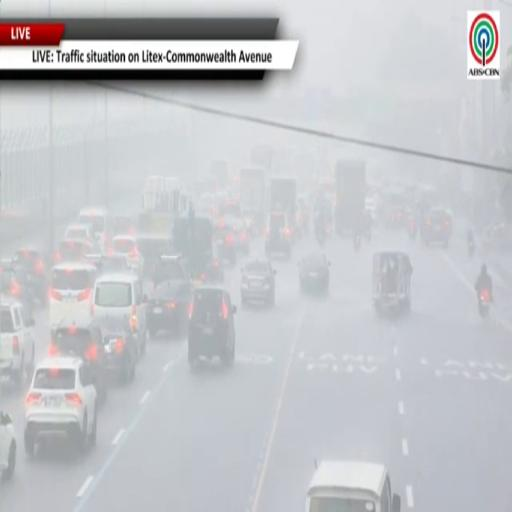car: (24, 358, 97, 457), (49, 316, 107, 403), (306, 461, 400, 511), (92, 274, 147, 354), (188, 287, 236, 366), (49, 263, 97, 329), (95, 317, 140, 385), (0, 298, 34, 387), (146, 277, 192, 337), (12, 249, 49, 305), (0, 265, 35, 317), (241, 260, 275, 306), (78, 207, 112, 251), (111, 235, 144, 279), (137, 234, 170, 277), (298, 252, 330, 295), (265, 212, 292, 258), (152, 255, 190, 287), (421, 208, 452, 247), (54, 239, 101, 264), (0, 411, 17, 479), (223, 216, 250, 254), (96, 253, 132, 274), (65, 223, 94, 243), (113, 215, 136, 235), (219, 200, 241, 218)
motorcycle: (478, 288, 491, 317), (315, 227, 326, 246), (408, 219, 417, 239), (353, 232, 361, 252), (468, 240, 475, 257)
truck: (171, 214, 217, 281), (138, 176, 188, 235), (334, 159, 366, 235), (240, 166, 266, 231), (270, 176, 297, 230), (251, 144, 275, 171), (210, 160, 229, 188)
